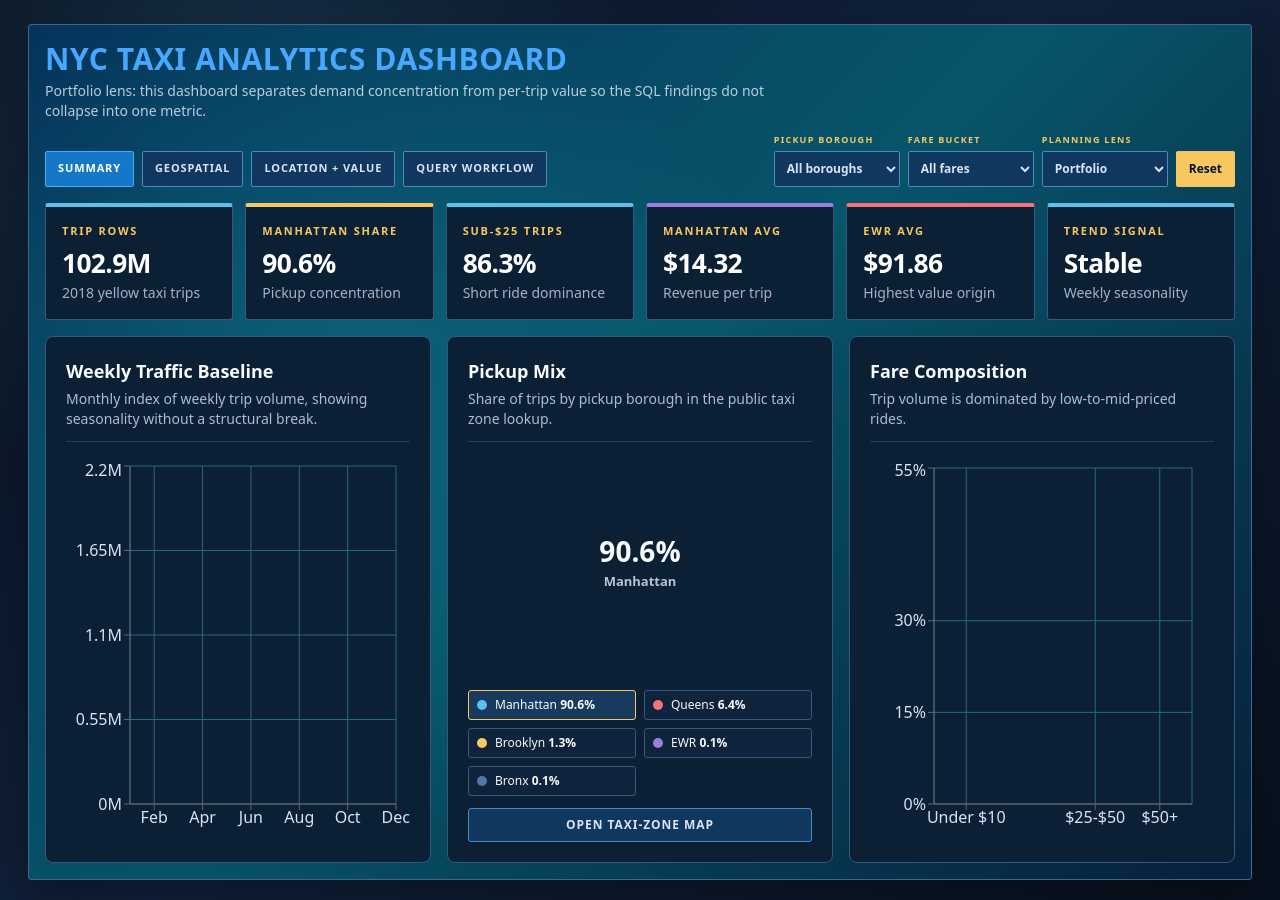
Test: DashboardView › switches to the query workflow tab
Click the button "Query Workflow" at (475, 168), box [403,150,547,186]
(page scrolled)
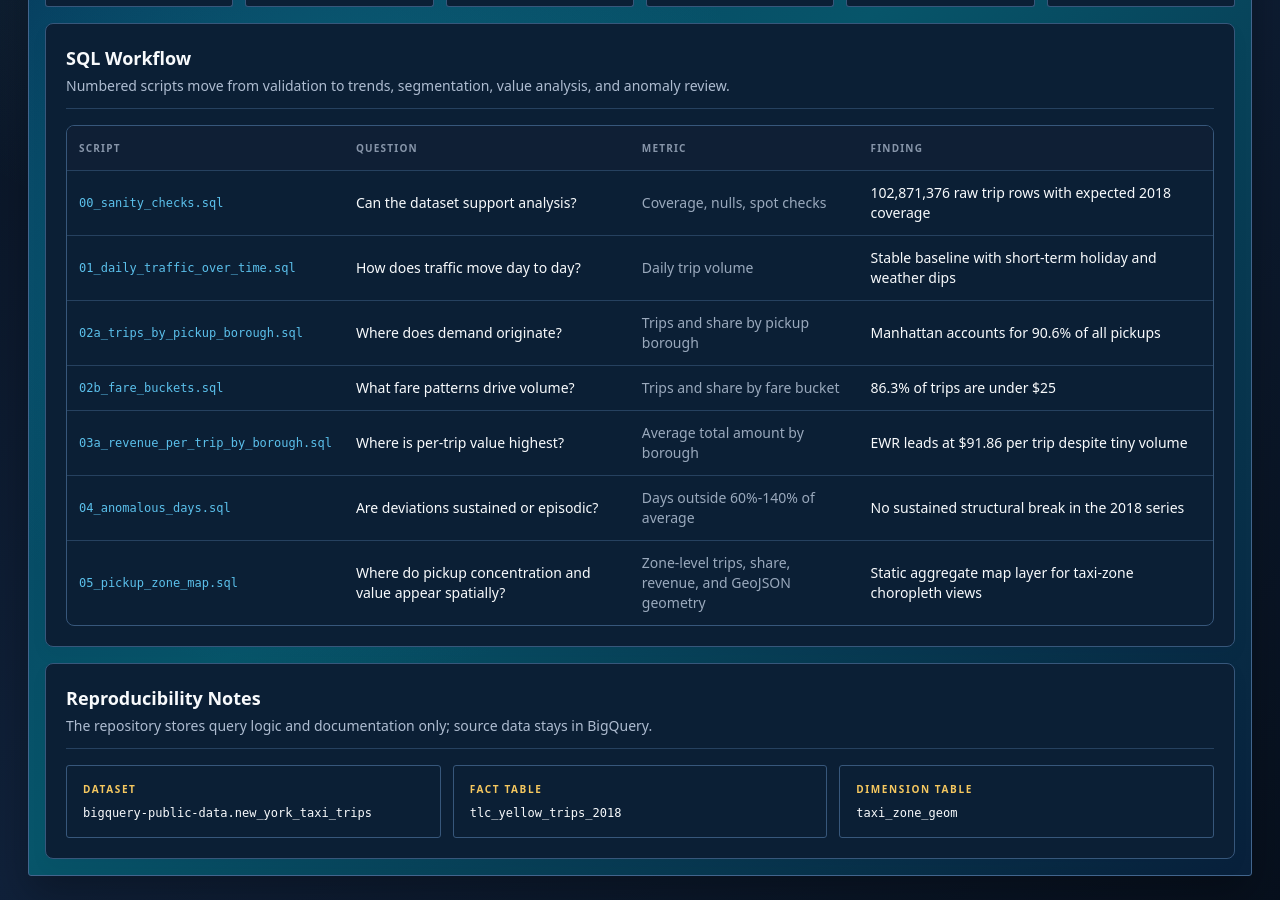
Expected: the text "00_sanity_checks.sql" is shown, [67,170,344,236]
Expected: the text "05_pickup_zone_map.sql" is shown, [67,540,344,625]
